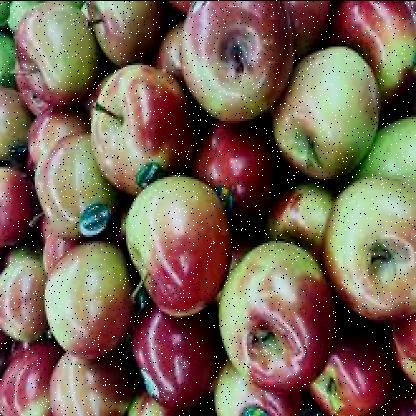apple: (217, 242, 327, 402), (324, 161, 414, 330), (268, 43, 364, 178), (187, 2, 287, 124), (131, 176, 217, 316), (86, 64, 179, 192), (30, 130, 127, 248), (42, 240, 138, 358), (134, 296, 224, 404), (16, 4, 107, 104), (193, 126, 278, 218), (313, 327, 393, 412)
